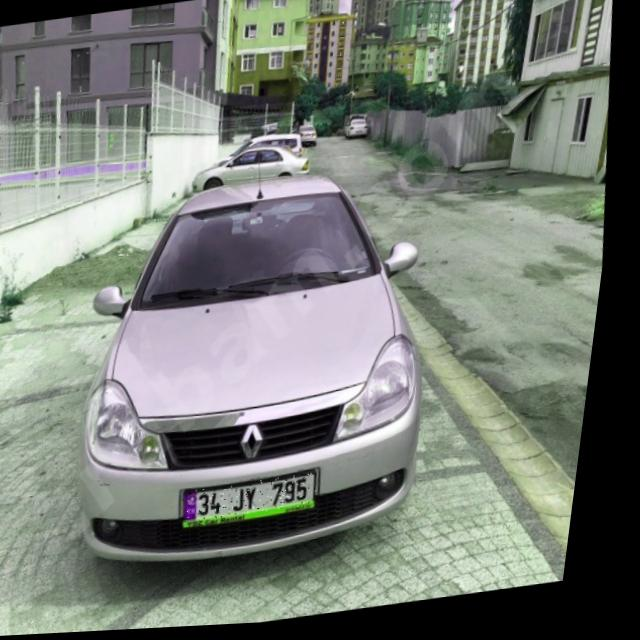license_plate: (193, 476, 332, 525)
